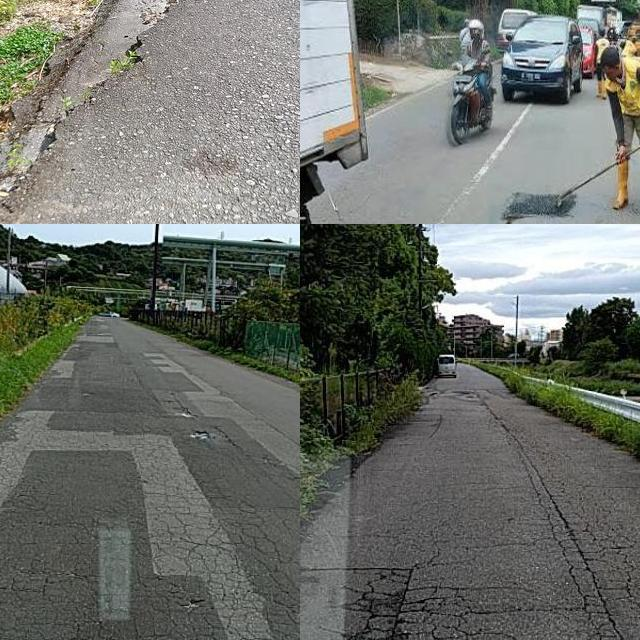Pinggir: (0, 0, 227, 224)
Retak Buaya: (335, 477, 640, 640)
Sambungan: (0, 448, 231, 640), (173, 419, 300, 640)
